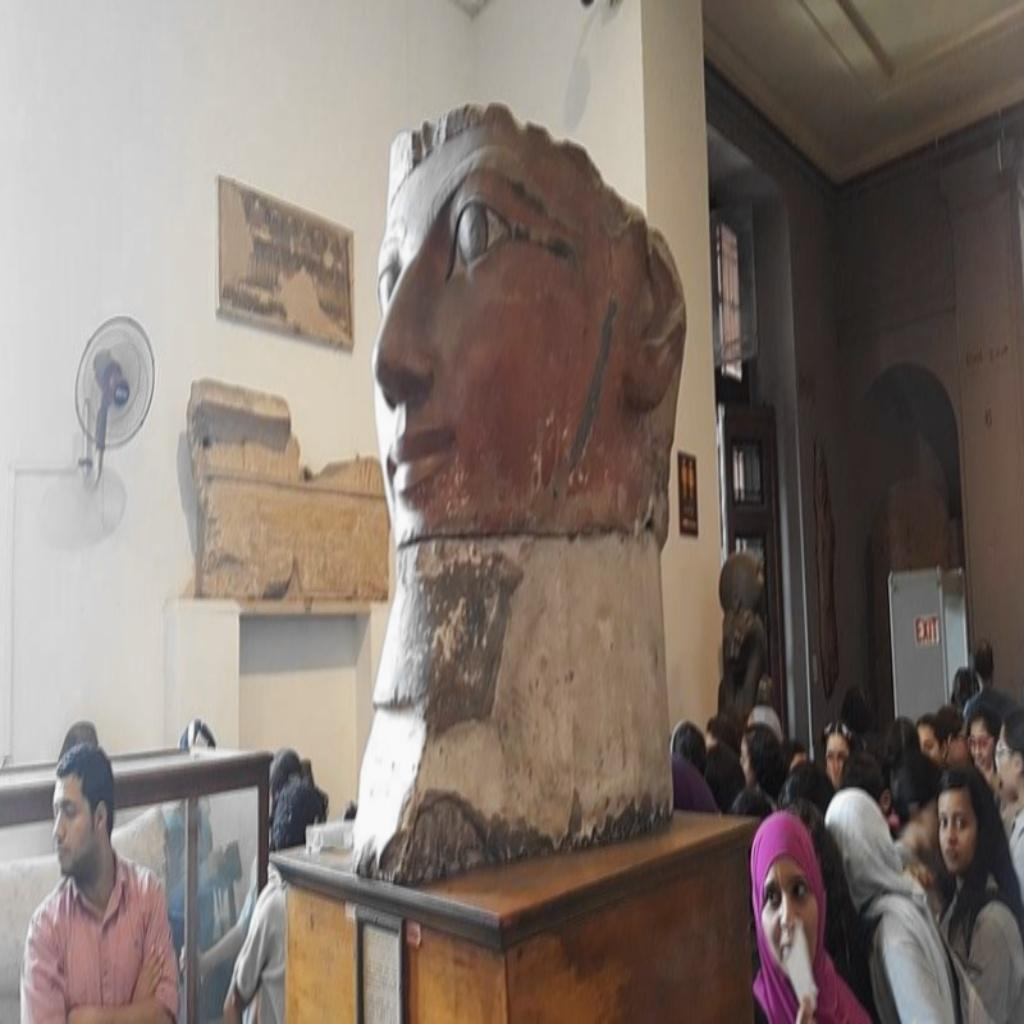Hatshepsut face: (350, 96, 688, 886)
